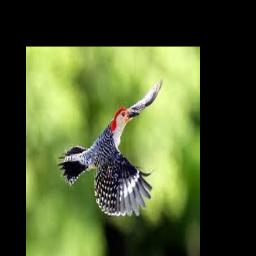Woodpecker: (59, 77, 163, 216)
